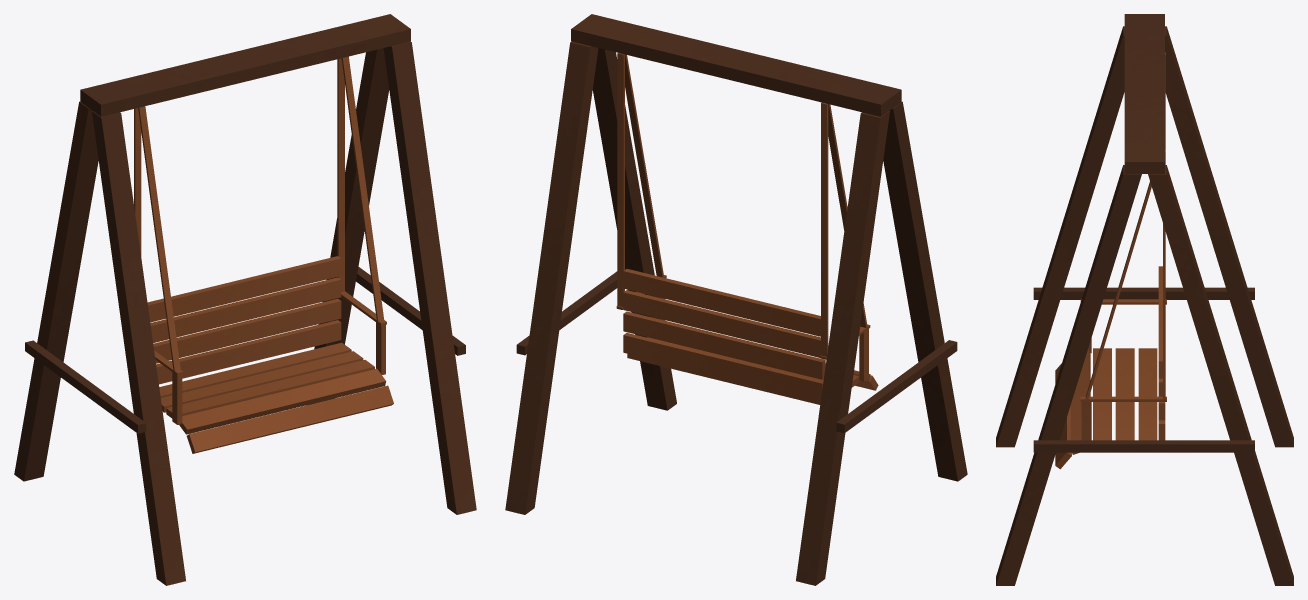
The model's file is Swing.fbx.
The picture shows the model from 3 angles, left to right: view 1: azimuth 30°, elevation 25°; view 2: azimuth 150°, elevation 25°; view 3: azimuth 270°, elevation 25°; orthographic projection. The views are drawn at different scales.
Parts seen in each view (by area): view 1: Swing_Body, Swing_Act; view 2: Swing_Body, Swing_Act; view 3: Swing_Body, Swing_Act.
Part boxes in pixels (x1,y1,x2,y2): Swing_Body: (14,14,476,585); Swing_Act: (134,56,393,453); Swing_Body: (505,14,967,585); Swing_Act: (616,53,878,404); Swing_Body: (996,14,1293,585); Swing_Act: (1055,52,1166,469).
Bounding box in the file's own units: 293 × 370 × 236.
Materials: 1 (1 with a texture image).
